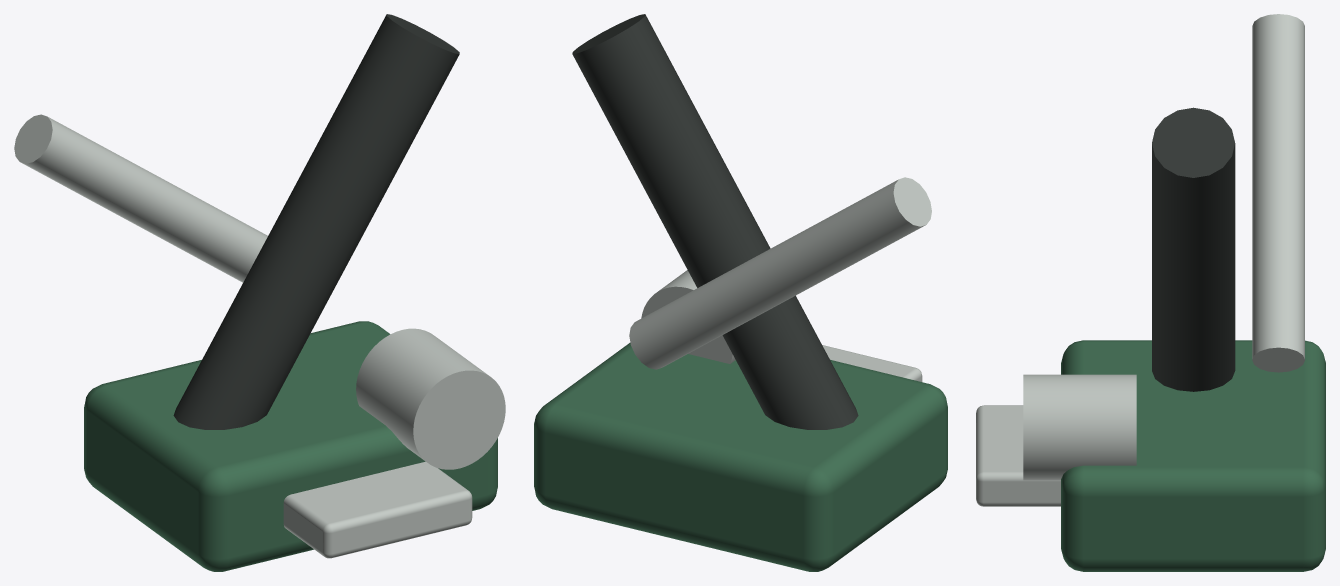
Rendered from sawmill-and-timber-yard-lumber-banding-tool-e59821d4__31197.glb.
3 views of the same model, side by side, from view 1: azimuth 30°, elevation 25°; view 2: azimuth 150°, elevation 25°; view 3: azimuth 270°, elevation 25° (orthographic).
Visible parts, largest first — view 1: lumber-banding-tool; view 2: lumber-banding-tool; view 3: lumber-banding-tool.
Boxes of the visible parts, x1=… form: lumber-banding-tool: x1=14, y1=14, x2=505, y2=571; lumber-banding-tool: x1=534, y1=14, x2=947, y2=571; lumber-banding-tool: x1=976, y1=14, x2=1325, y2=571.
Size of the model in its own units: 0.2369 by 0.2619 by 0.185.
